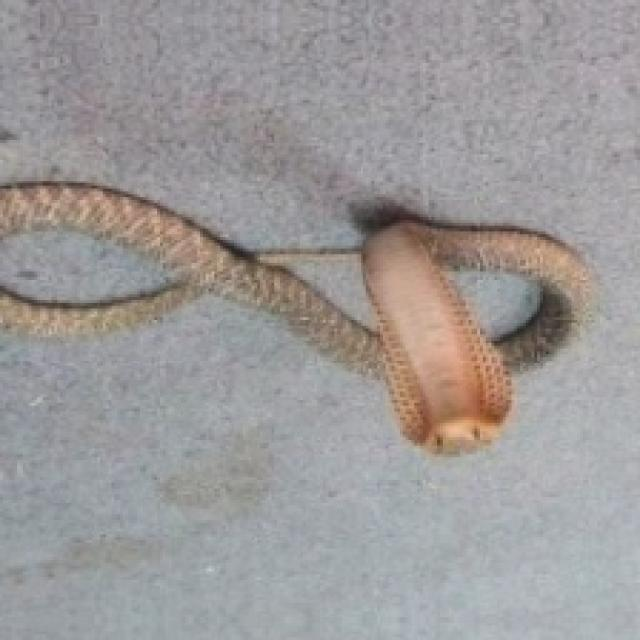philippine cobra: (0, 183, 591, 451), (446, 266, 543, 340)
